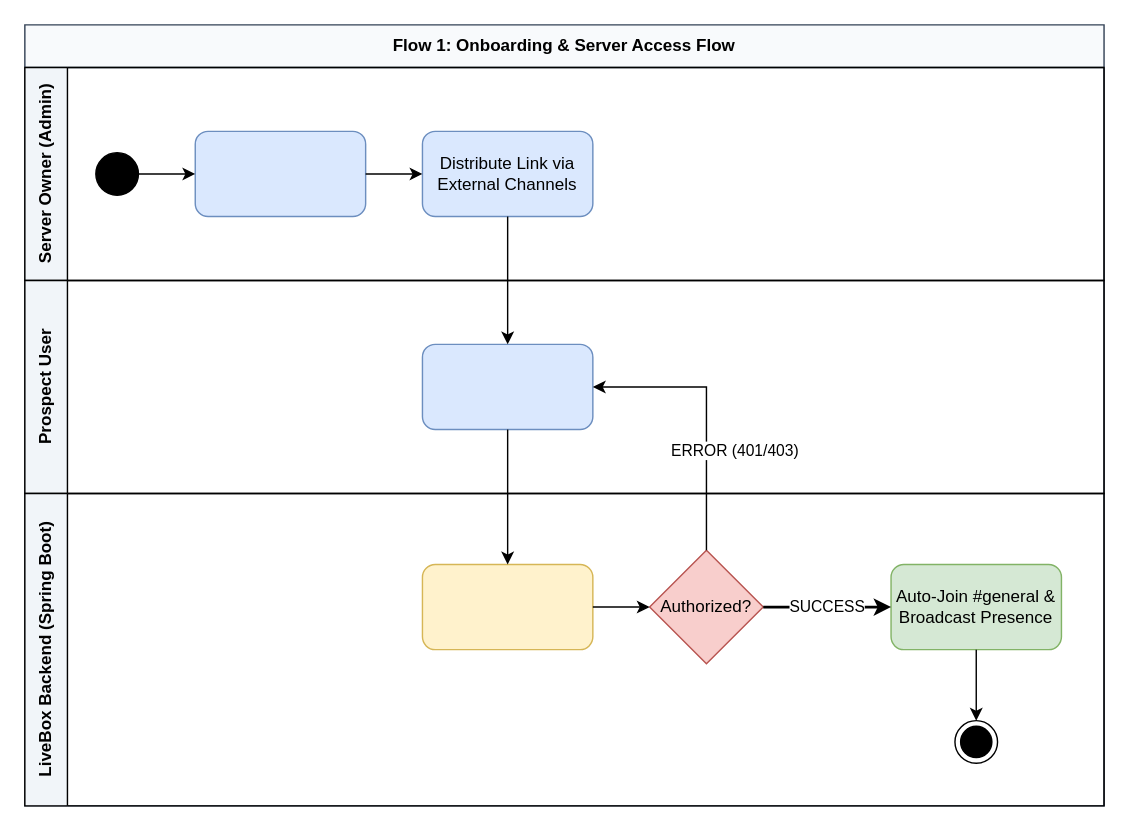
This 1129x831 diagram has some shape labels left out. The shapes that lost their labels are listed below. From the top down, each one's centre as x and y in pixels, then its label:
point (280, 173): Generate Invite Link (LB-202) [TTL=7d]
point (507, 386): Access Link & Sign-up / Login (LB-101)
point (507, 606): Validate Auth Token & Map Membership
